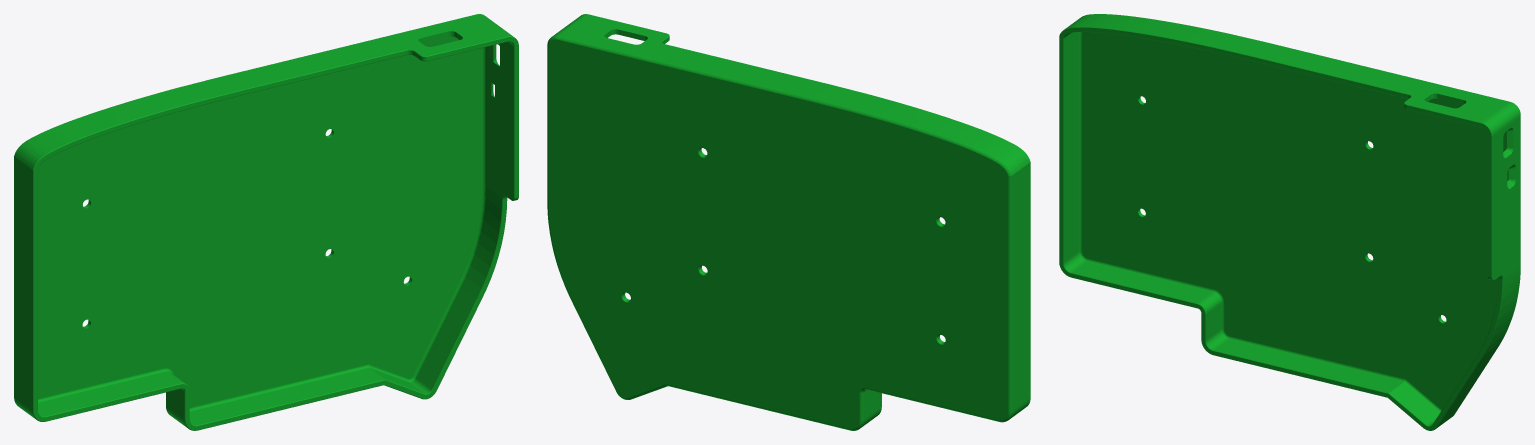
File: case-bottom-3dp.glb
3 renders of one model, left to right at view 1: azimuth 30°, elevation 25°; view 2: azimuth 150°, elevation 25°; view 3: azimuth 330°, elevation 25°, orthographic. The views are drawn at different scales.
Size of the model in its own units: 0.1406 by 0.1004 by 0.0165.
